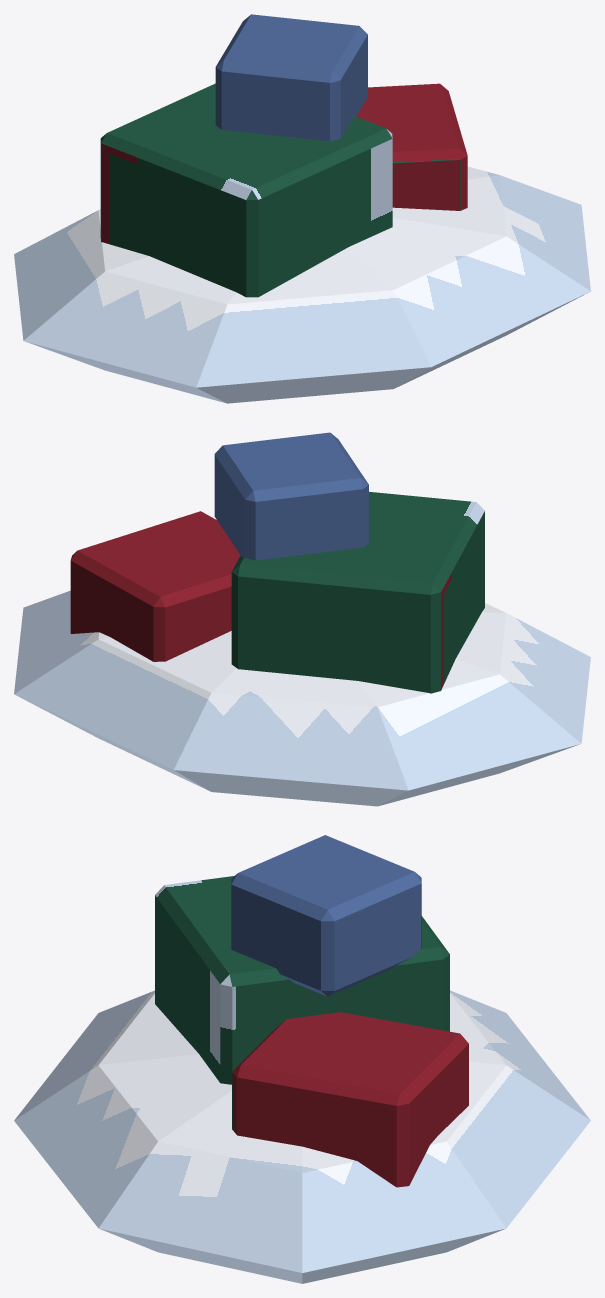
The model's file is prop_gift_pile.glb.
The picture shows the model from 3 angles, top to bottom: view 1: azimuth 30°, elevation 25°; view 2: azimuth 150°, elevation 25°; view 3: azimuth 270°, elevation 25°; orthographic projection. The views are drawn at different scales.
Parts seen in each view (by area): view 1: prop_gift_pile; view 2: prop_gift_pile; view 3: prop_gift_pile.
Boxes of the visible parts, left/top/right/bottom form: prop_gift_pile: left=14, top=14, right=590, bottom=403; prop_gift_pile: left=14, top=432, right=590, bottom=806; prop_gift_pile: left=14, top=835, right=590, bottom=1283.
Size of the model in its own units: 1.5 by 0.75 by 1.2.
Materials: 1 (1 with a texture image).
